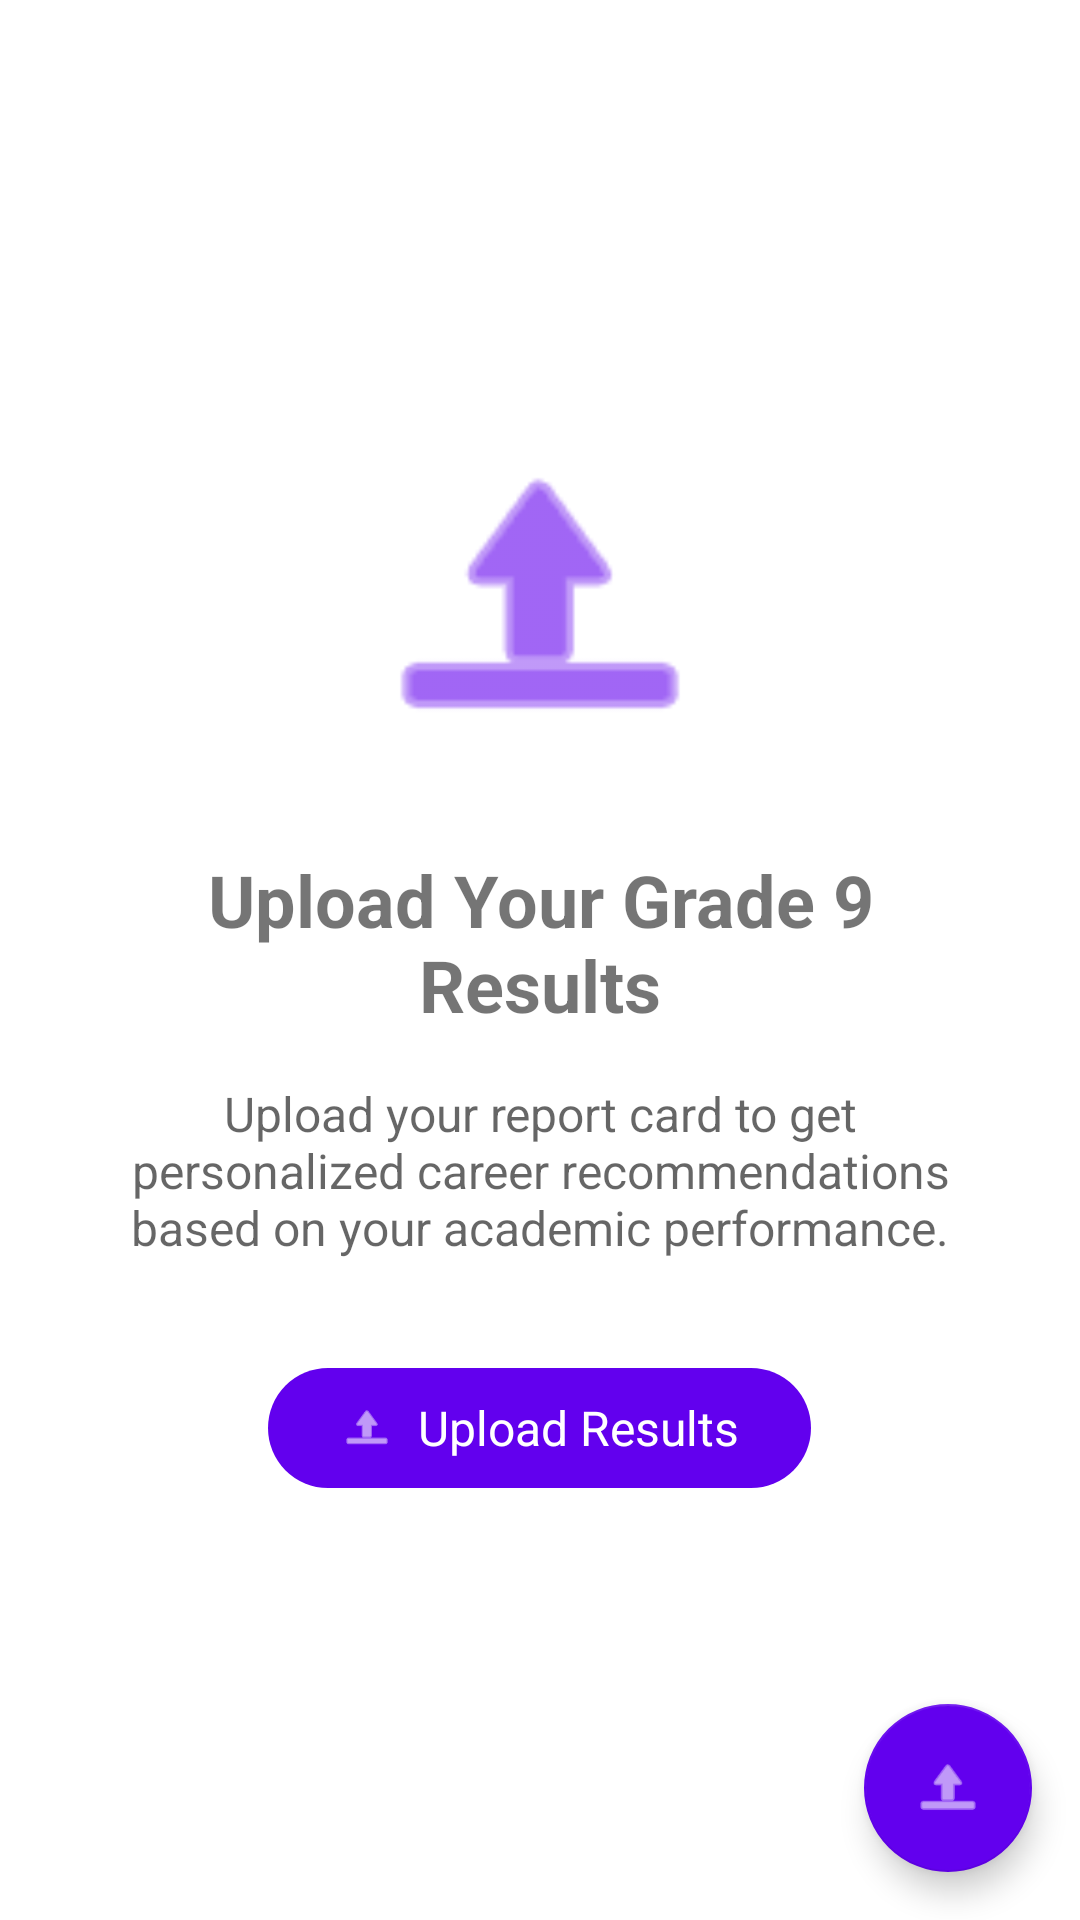

Icon bounding boxes for this 1080px×1920px phone screenshot, format {"left": x1, "top": y1, "right": x2, "bottom": y2}:
Upload results: {"left": 864, "top": 1704, "right": 1032, "bottom": 1872}
